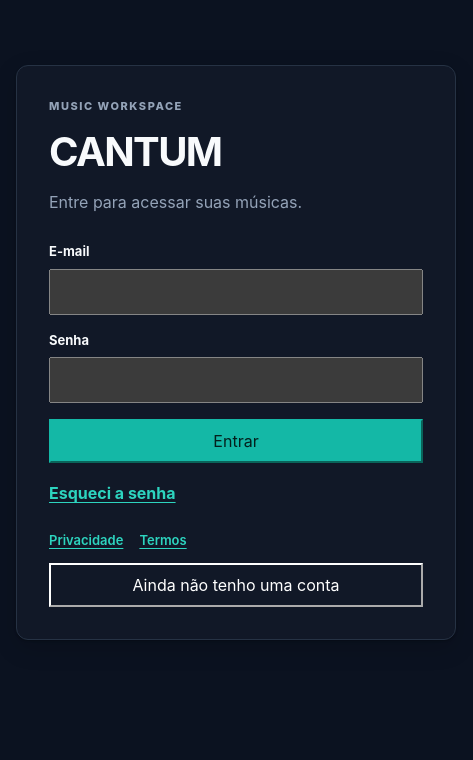
it: AuthPage › a declaração de idade volta a desmarcada ao alternar entre entrar e cadastrar
The width and height of the screenshot is (473, 760).
What coordinates should you click on to do the following:
click the button "Ainda não tenho uma conta"
I would click on:
 (236, 584)
Its box is [49,562,423,606].
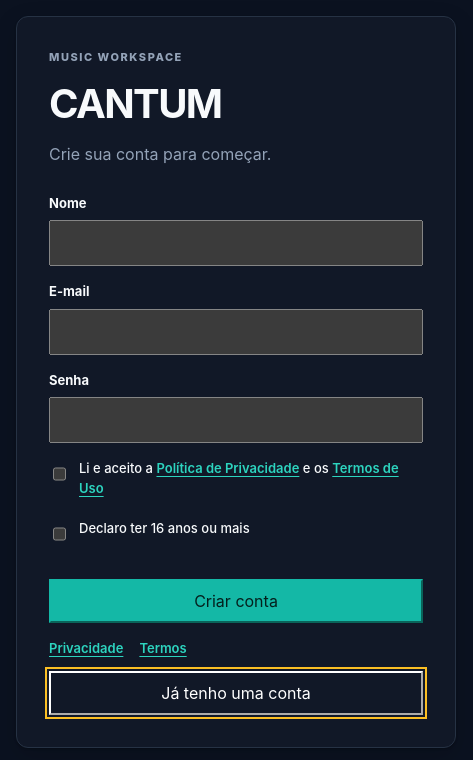
What coordinates should you click on to do the following:
click the checkbox labelled "Declaro ter 16 anos ou mais"
I would click on:
 (60, 534)
Its box is [53,522,66,546].
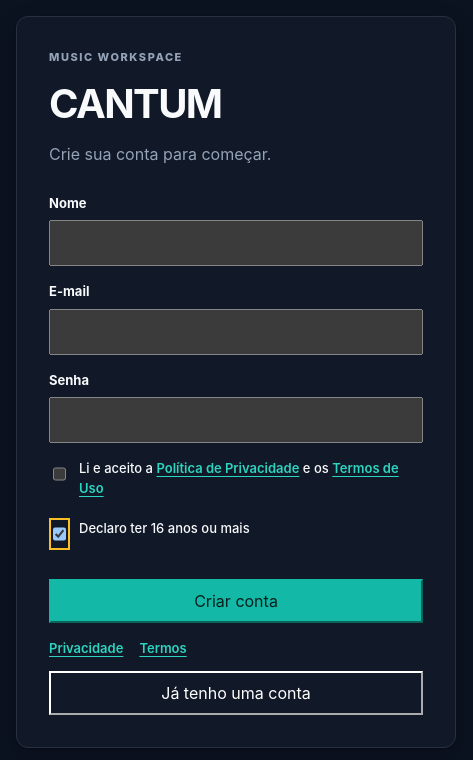
What coordinates should you click on to do the following:
click the button "Já tenho uma conta"
I would click on:
 (236, 692)
Its box is [49,670,423,714].
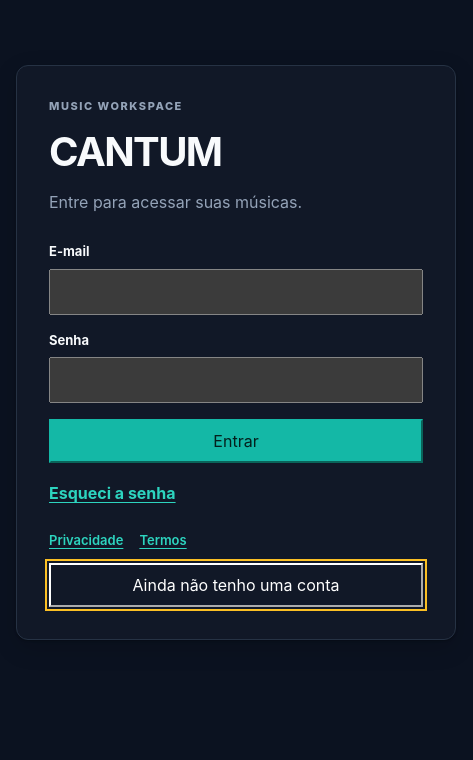
What coordinates should you click on to do the following:
click the button "Ainda não tenho uma conta"
I would click on:
 (236, 584)
Its box is [49,562,423,606].
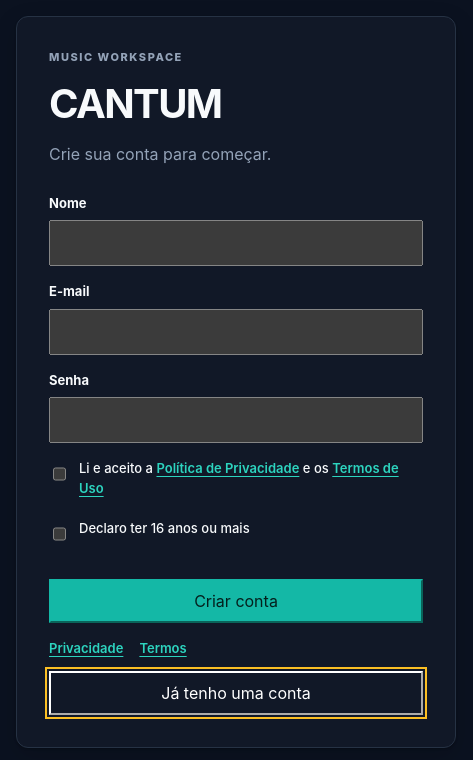
Expected: the checkbox labelled "Declaro ter 16 anos ou mais" is not checked, [53,522,66,546]
